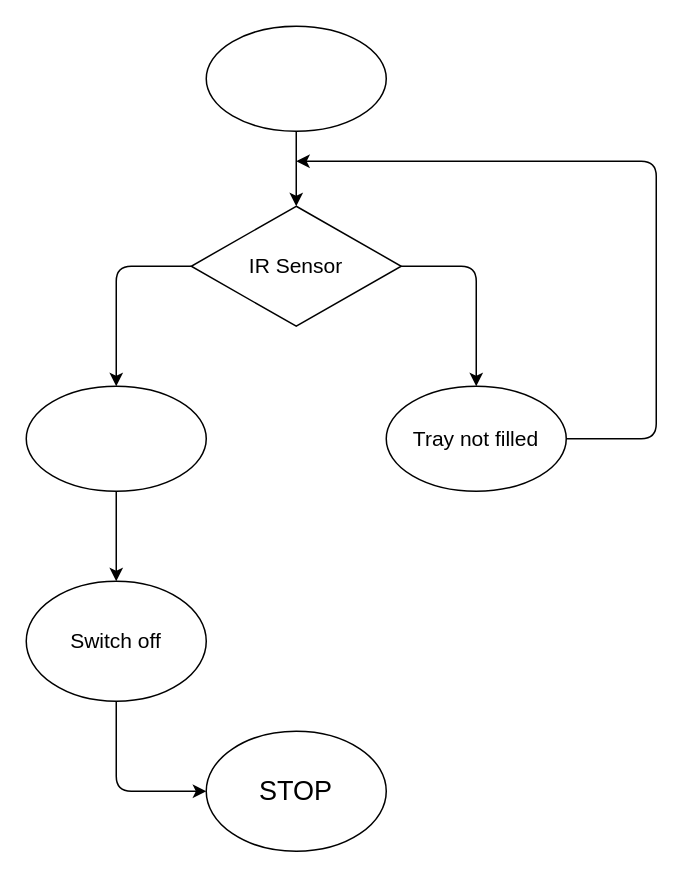
Image size: 695x878. Some labels were removed from this diagram. The centre of each missing label's shape, as x and y in pixels:
"START" goes at [295,78].
"Tray filled" goes at [115,438].
